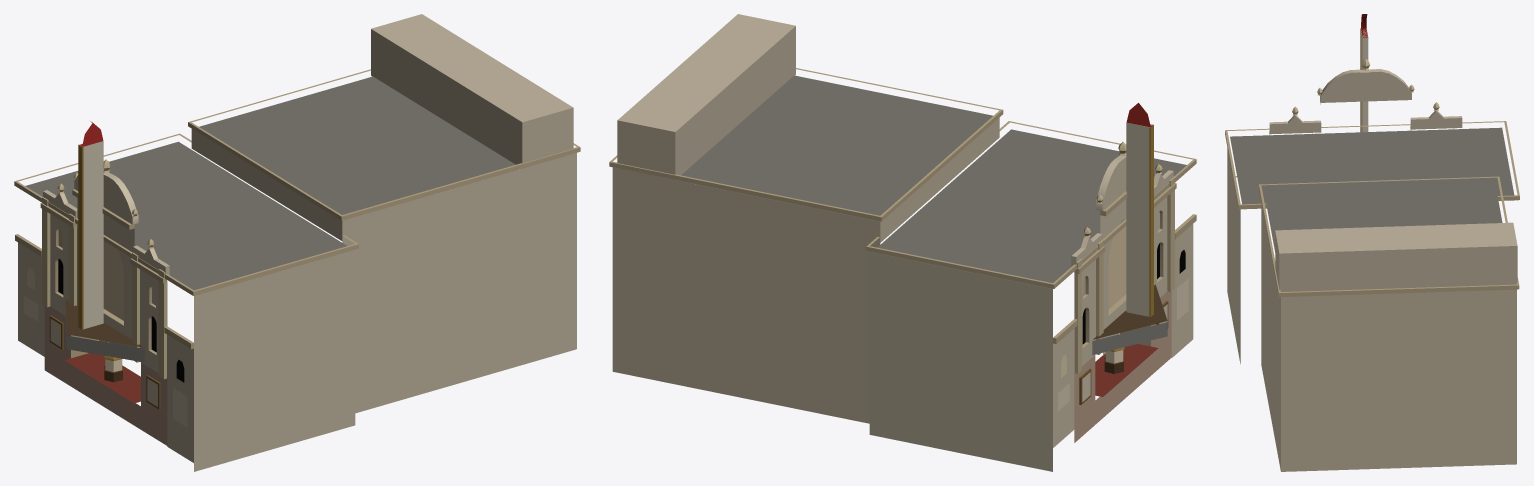
Rendered from castro_lod1.glb.
3 renders of one model, left to right at view 1: azimuth 30°, elevation 25°; view 2: azimuth 150°, elevation 25°; view 3: azimuth 270°, elevation 25°, orthographic. The views are drawn at different scales.
Parts seen in each view (by area): view 1: L1_stucco, L1_roof, L1_paint, L1_win, L1_terracotta, L1_metal, L1_neon, L1_shop; view 2: L1_stucco, L1_roof, L1_paint, L1_win, L1_terracotta, L1_metal, L1_neon, L1_shop; view 3: L1_stucco, L1_roof, L1_paint.
Boxes of the visible parts, box(x1,y1,x2,y2) form: L1_stucco: box(14, 14, 580, 471); L1_roof: box(25, 76, 515, 290); L1_paint: box(78, 121, 103, 329); L1_win: box(27, 228, 184, 382); L1_terracotta: box(64, 353, 140, 403); L1_metal: box(65, 299, 143, 382); L1_neon: box(65, 309, 144, 362); L1_shop: box(23, 295, 187, 427); L1_stucco: box(609, 14, 1196, 471); L1_roof: box(681, 75, 1186, 283); L1_paint: box(1126, 103, 1153, 317); L1_win: box(1061, 212, 1185, 378); L1_terracotta: box(1095, 344, 1158, 396); L1_metal: box(1093, 284, 1167, 373); L1_neon: box(1092, 322, 1167, 355); L1_shop: box(1058, 278, 1188, 410); L1_stucco: box(1225, 58, 1519, 471); L1_roof: box(1230, 127, 1514, 252); L1_paint: box(1360, 14, 1368, 132).
Bounding box in the file's own units: 52.2 × 32.1 × 32.11.
